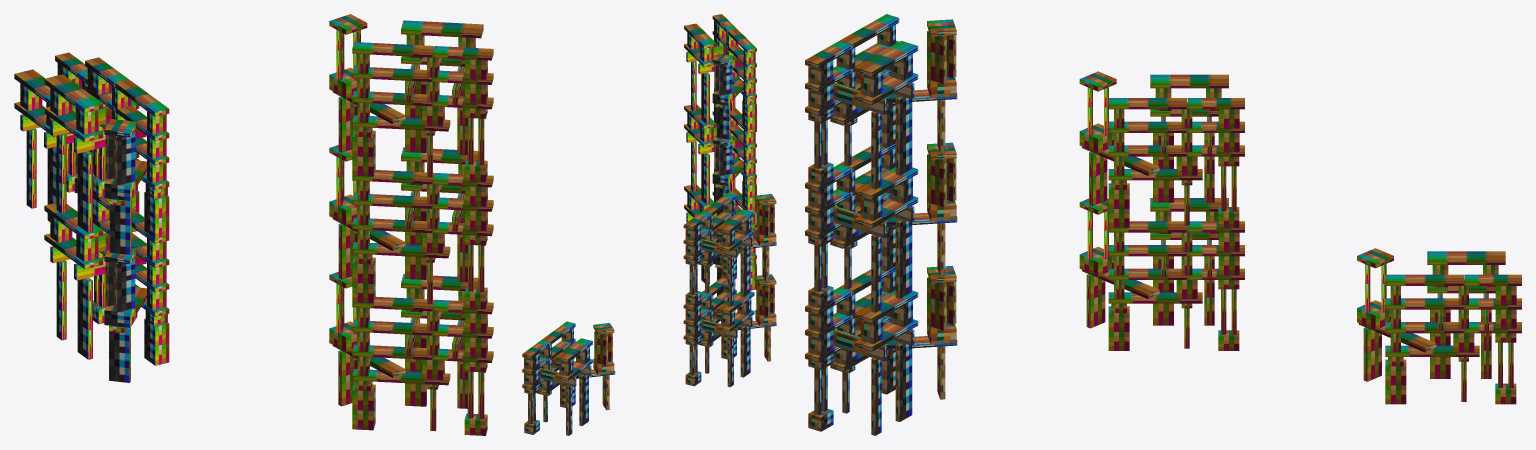
File: DynamicObjects.fbx
3 views of the same model, side by side, from view 1: azimuth 30°, elevation 25°; view 2: azimuth 150°, elevation 25°; view 3: azimuth 270°, elevation 25° (orthographic). The views are drawn at different scales.
Parts seen in each view (by area): view 1: D1DynamicBox180, D1DynamicBox46, D1DynamicBox158, D1DynamicBox202, D1DynamicBox157, D1DynamicBox249, D1DynamicBox141, D1DynamicBox186, D1DynamicBox265, D1DynamicBox68, D1DynamicBox203, D1DynamicBox248 (+73 smaller); view 2: D1DynamicBox91, D1DynamicBox46, D1DynamicBox180, D1DynamicBox45, D1DynamicBox99, D1DynamicBox158, D1DynamicBox37, D1DynamicBox113, D1DynamicBox54, D1DynamicBox68, D1DynamicBox225, D1DynamicBox210 (+13 smaller); view 3: D1DynamicBox46, D1DynamicBox91, D1DynamicBox180, D1DynamicBox113, D1DynamicBox68, D1DynamicBox22, D1DynamicBox85, D1DynamicBox114, D1DynamicBox69, D1DynamicBox45, D1DynamicBox225, D1DynamicBox226 (+18 smaller).
Boxes of the visible parts, x1=… form: D1DynamicBox180: x1=401, y1=20, x2=483, y2=38; D1DynamicBox46: x1=44, y1=74, x2=103, y2=112; D1DynamicBox158: x1=352, y1=42, x2=434, y2=57; D1DynamicBox202: x1=352, y1=193, x2=432, y2=208; D1DynamicBox157: x1=352, y1=66, x2=432, y2=81; D1DynamicBox249: x1=352, y1=320, x2=432, y2=335; D1DynamicBox141: x1=352, y1=115, x2=450, y2=131; D1DynamicBox186: x1=352, y1=242, x2=450, y2=258; D1DynamicBox265: x1=352, y1=369, x2=450, y2=385; D1DynamicBox68: x1=115, y1=79, x2=169, y2=116; D1DynamicBox203: x1=352, y1=170, x2=434, y2=184; D1DynamicBox248: x1=352, y1=296, x2=434, y2=311; D1DynamicBox91: x1=555, y1=338, x2=592, y2=362; D1DynamicBox46: x1=717, y1=209, x2=754, y2=233; D1DynamicBox180: x1=684, y1=23, x2=716, y2=48; D1DynamicBox45: x1=717, y1=291, x2=754, y2=313; D1DynamicBox99: x1=539, y1=368, x2=576, y2=386; D1DynamicBox158: x1=727, y1=28, x2=756, y2=53; D1DynamicBox37: x1=701, y1=319, x2=737, y2=338; D1DynamicBox113: x1=541, y1=321, x2=575, y2=344; D1DynamicBox54: x1=701, y1=239, x2=737, y2=257; D1DynamicBox68: x1=703, y1=192, x2=736, y2=216; D1DynamicBox225: x1=684, y1=104, x2=716, y2=128; D1DynamicBox210: x1=718, y1=155, x2=732, y2=175; D1DynamicBox46: x1=1150, y1=74, x2=1228, y2=88; D1DynamicBox91: x1=1427, y1=251, x2=1505, y2=264; D1DynamicBox180: x1=854, y1=41, x2=918, y2=77; D1DynamicBox113: x1=1385, y1=274, x2=1463, y2=285; D1DynamicBox68: x1=1108, y1=98, x2=1186, y2=109; D1DynamicBox22: x1=1108, y1=245, x2=1186, y2=256; D1DynamicBox85: x1=1108, y1=169, x2=1202, y2=180; D1DynamicBox114: x1=1385, y1=298, x2=1463, y2=309; D1DynamicBox69: x1=1108, y1=121, x2=1186, y2=132; D1DynamicBox45: x1=1150, y1=198, x2=1228, y2=211; D1DynamicBox225: x1=854, y1=167, x2=918, y2=200; D1DynamicBox226: x1=854, y1=290, x2=918, y2=323.
Size of what is drawn, in the model's own units: 56.33 by 78 by 137.
